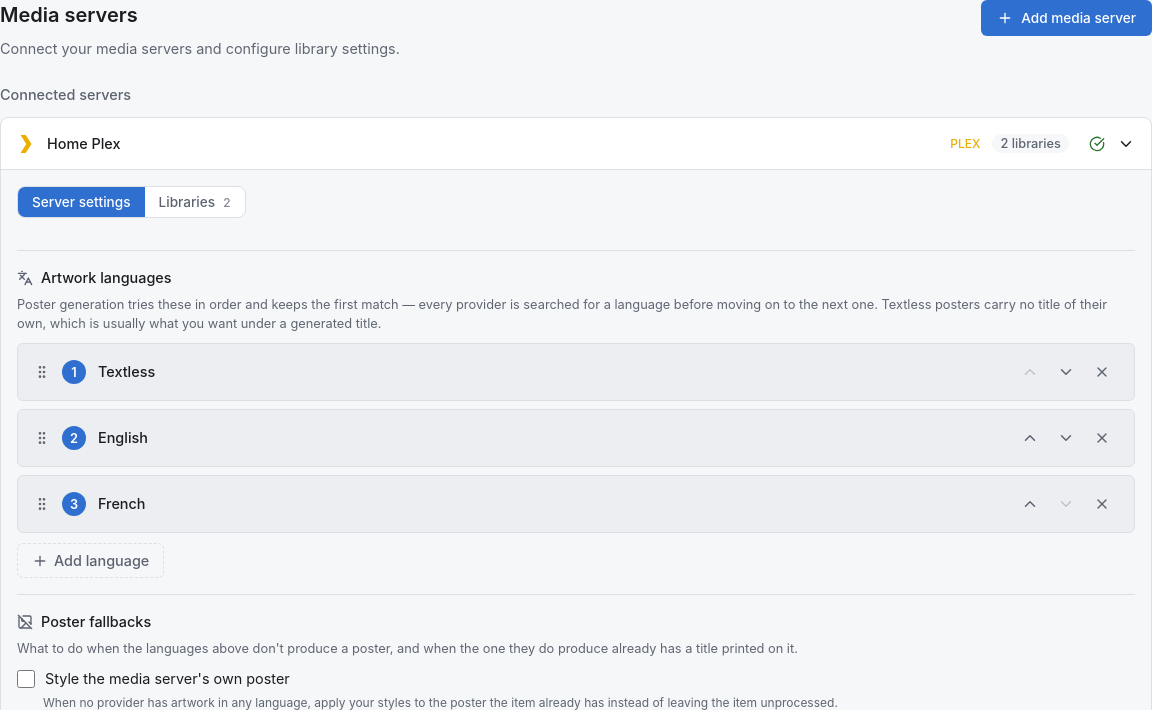
Test: MediaServersSettings poster fallbacks › keeps the card unsaved and says why when the fallback save fails
The image size is (1152, 710).
Click the button "Server settings": click(81, 202) [18, 187, 144, 217]
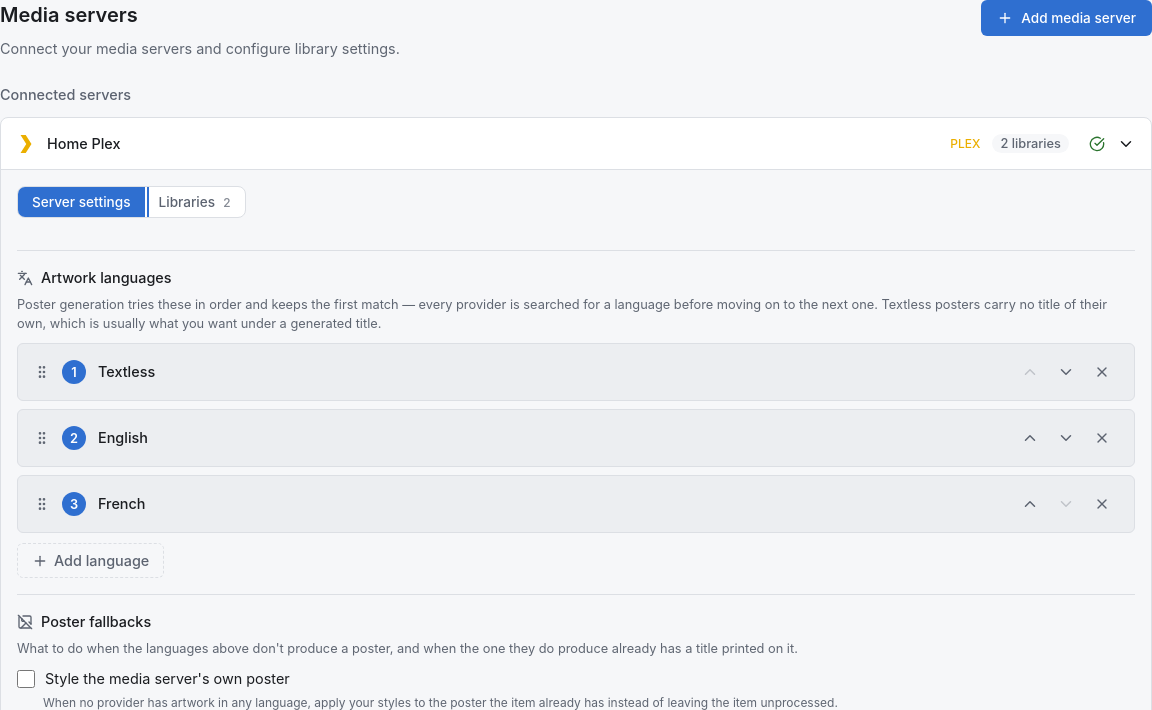
Click the checkbox labelled "Style the media server's own poster": click(26, 679) [17, 670, 35, 688]
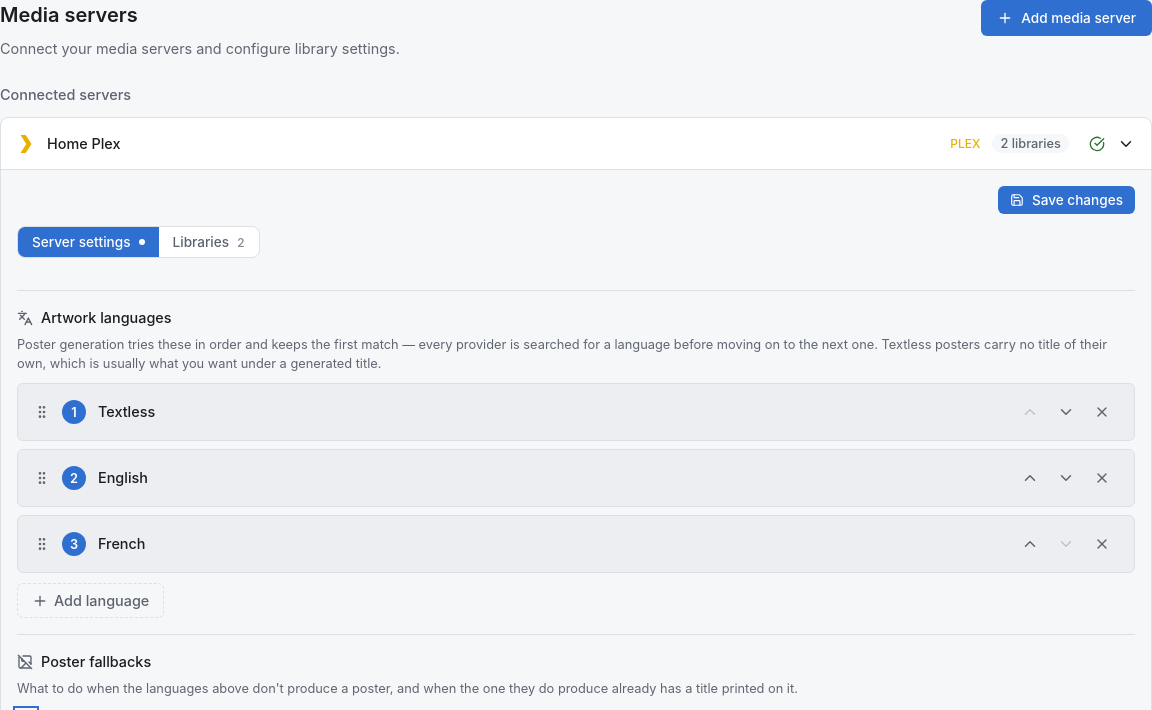
Click the button "Save changes": click(1066, 200) [998, 186, 1135, 214]
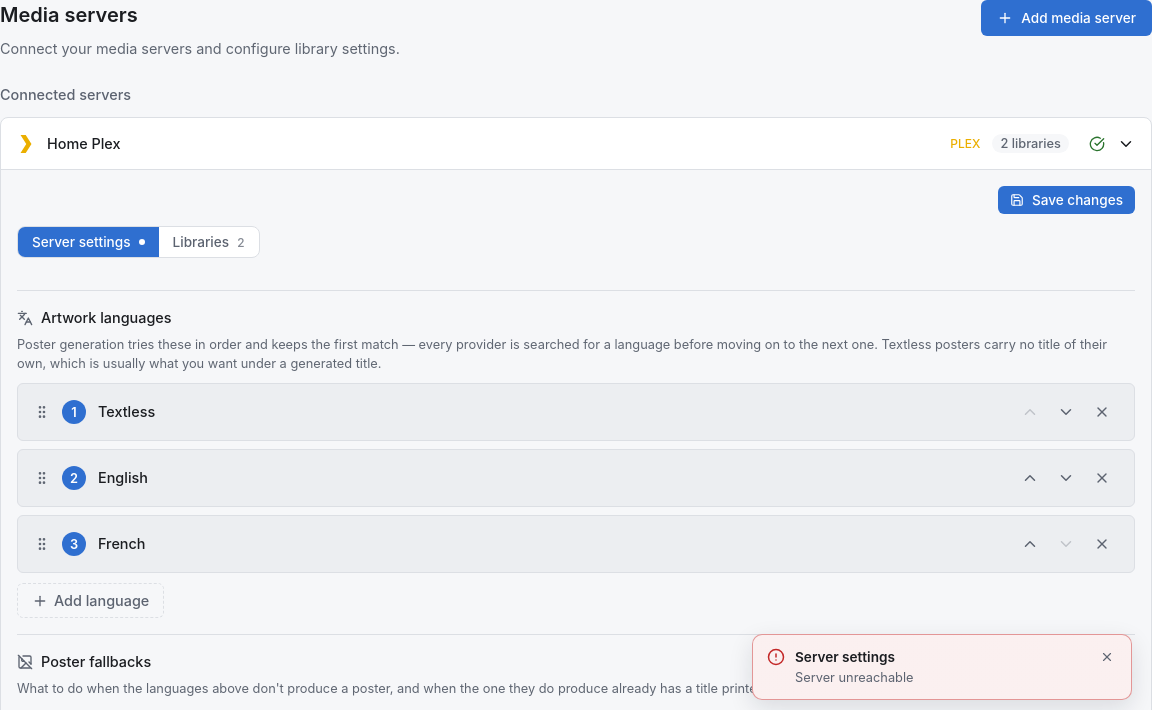
Expected: the button "Save changes" is shown, [998, 186, 1135, 214]
Expected: the message shows "Server unreachable", [795, 670, 914, 685]
